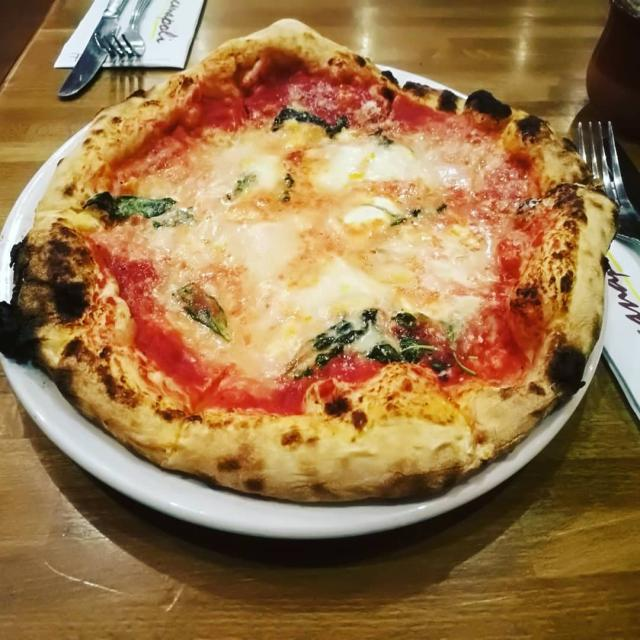basil: (173, 283, 231, 341), (314, 319, 369, 365), (84, 192, 175, 218), (272, 108, 348, 138), (111, 195, 175, 218), (400, 337, 437, 362), (225, 174, 256, 201), (368, 343, 402, 363), (392, 312, 417, 326), (361, 309, 377, 324)
pizza: (0, 20, 616, 500)
